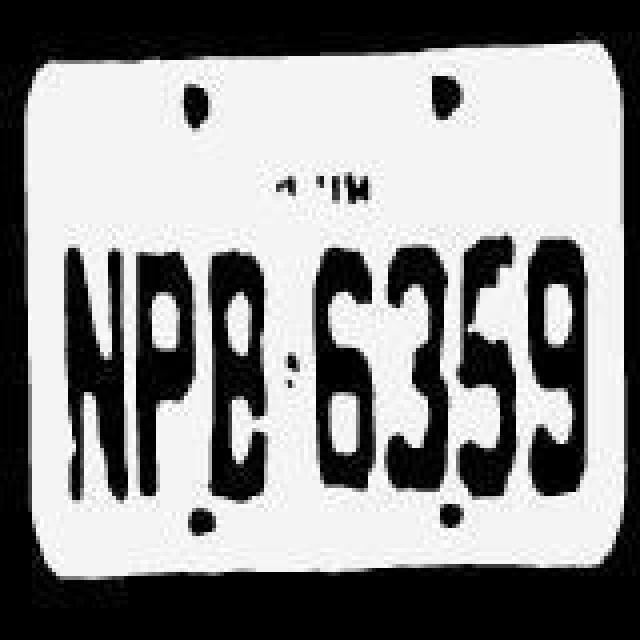3: (378, 240, 454, 496)
5: (452, 228, 524, 508)
6: (306, 232, 382, 504)
9: (524, 218, 596, 502)
B: (204, 240, 284, 512)
N: (46, 242, 130, 510)
P: (124, 244, 196, 500)
